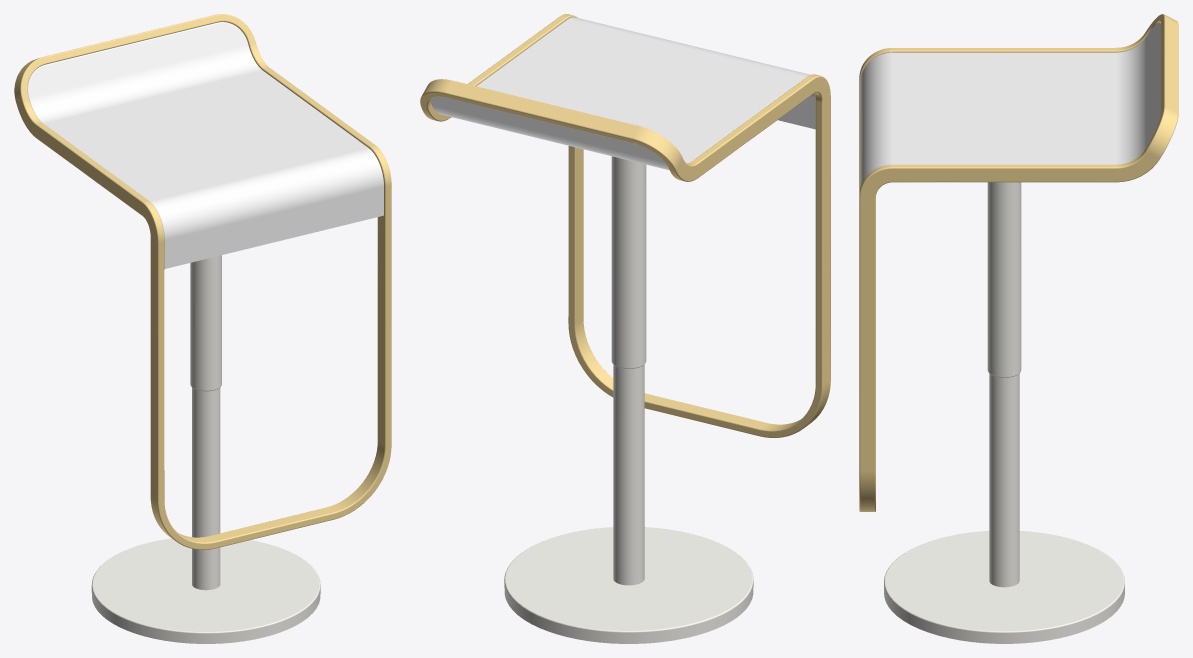
3 renders of one model, left to right at view 1: azimuth 30°, elevation 25°; view 2: azimuth 150°, elevation 25°; view 3: azimuth 270°, elevation 25°, orthographic. The views are drawn at different scales.
Parts seen in each view (by area): view 1: Default(803825C1-FD9B-48D6-85F3-D6D0C3813111)_7, Default(9ACA37B3-66F6-43BC-A099-A7AFDF05416D)_5, Default(E9B101EE-759A-40CA-9CC0-F8F14FEF1537)_11, Default(058A3D56-9C74-49EB-AC90-D1B3C93F6D94)_10, Default(AFA2D534-17D4-4390-86A2-DC6D502239CA)_9; view 2: Default(803825C1-FD9B-48D6-85F3-D6D0C3813111)_7, Default(E9B101EE-759A-40CA-9CC0-F8F14FEF1537)_11, Default(9ACA37B3-66F6-43BC-A099-A7AFDF05416D)_5, Default(AFA2D534-17D4-4390-86A2-DC6D502239CA)_9, Default(058A3D56-9C74-49EB-AC90-D1B3C93F6D94)_10; view 3: Default(803825C1-FD9B-48D6-85F3-D6D0C3813111)_7, Default(E9B101EE-759A-40CA-9CC0-F8F14FEF1537)_11, Default(9ACA37B3-66F6-43BC-A099-A7AFDF05416D)_5, Default(AFA2D534-17D4-4390-86A2-DC6D502239CA)_9, Default(058A3D56-9C74-49EB-AC90-D1B3C93F6D94)_10.
Boxes of the visible parts, x1,y1,x2,y2 form: Default(803825C1-FD9B-48D6-85F3-D6D0C3813111)_7: [27, 22, 383, 268]; Default(9ACA37B3-66F6-43BC-A099-A7AFDF05416D)_5: [14, 14, 391, 549]; Default(E9B101EE-759A-40CA-9CC0-F8F14FEF1537)_11: [91, 536, 320, 643]; Default(058A3D56-9C74-49EB-AC90-D1B3C93F6D94)_10: [192, 387, 220, 590]; Default(AFA2D534-17D4-4390-86A2-DC6D502239CA)_9: [190, 255, 221, 391]; Default(803825C1-FD9B-48D6-85F3-D6D0C3813111)_7: [430, 17, 815, 169]; Default(E9B101EE-759A-40CA-9CC0-F8F14FEF1537)_11: [504, 527, 753, 643]; Default(9ACA37B3-66F6-43BC-A099-A7AFDF05416D)_5: [420, 14, 830, 437]; Default(AFA2D534-17D4-4390-86A2-DC6D502239CA)_9: [611, 156, 646, 368]; Default(058A3D56-9C74-49EB-AC90-D1B3C93F6D94)_10: [613, 364, 644, 585]; Default(803825C1-FD9B-48D6-85F3-D6D0C3813111)_7: [860, 22, 1160, 185]; Default(E9B101EE-759A-40CA-9CC0-F8F14FEF1537)_11: [884, 531, 1124, 643]; Default(9ACA37B3-66F6-43BC-A099-A7AFDF05416D)_5: [859, 14, 1178, 511]; Default(AFA2D534-17D4-4390-86A2-DC6D502239CA)_9: [987, 182, 1021, 377]; Default(058A3D56-9C74-49EB-AC90-D1B3C93F6D94)_10: [989, 374, 1019, 587].
Bounding box in the file's own units: 0.425 × 0.8747 × 0.4769.
